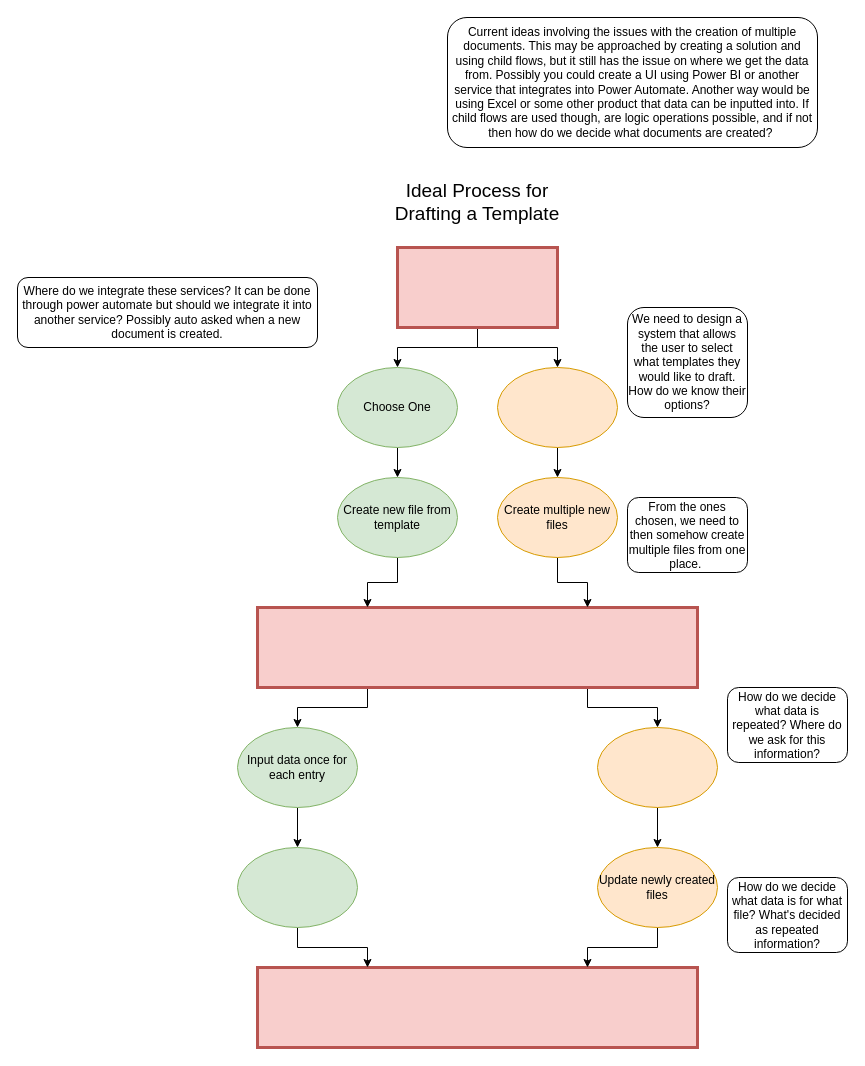
The diagram is 865 pixels wide and 1066 high, and some of its shapes have lost their labels. The box of each missing label's shape, as (x1, y1, x2, y2) in pixels:
Choose Multiple: (496, 366, 618, 448)
Choose what templates to edit.: (396, 246, 558, 328)
Have access to drafted documents.: (256, 966, 698, 1048)
Input data (DOB, Name, etc): (256, 606, 698, 688)
Input data once for repeated entries: (596, 726, 718, 808)
Update newly created file: (236, 846, 358, 928)
